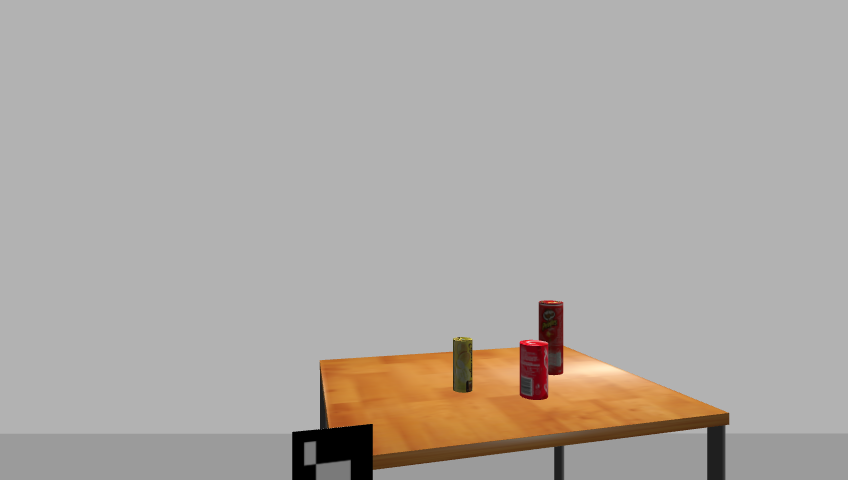aruco marker: (287, 423, 379, 480)
biscuits pack: (451, 337, 475, 394)
coke can: (517, 340, 550, 400)
dinner table: (310, 343, 738, 480)
pringles can: (537, 300, 566, 377)
